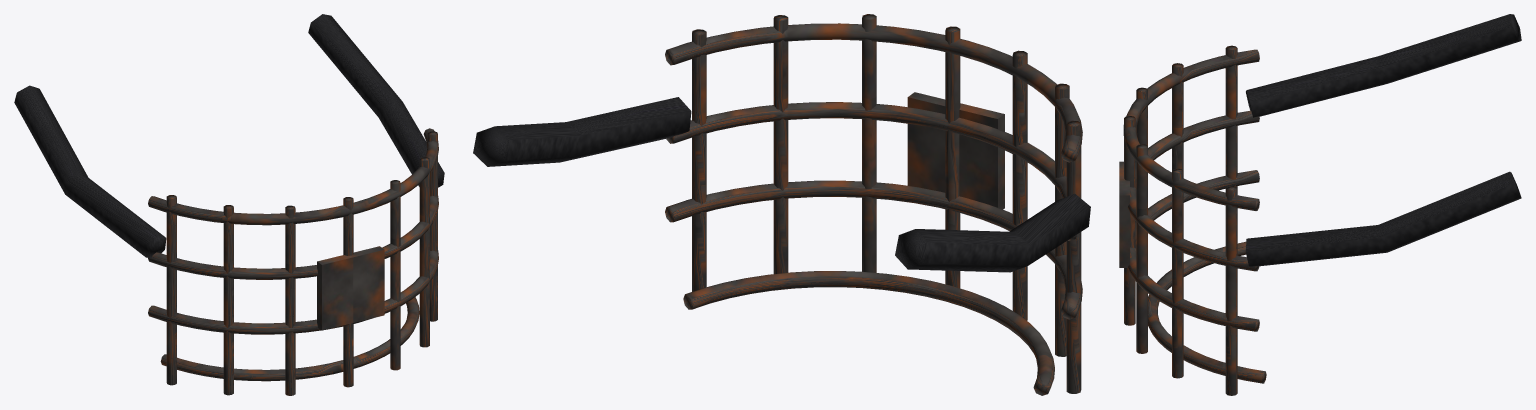
File: 鉄の口輪_muzzle.glb
3 views of the same model, side by side, from view 1: azimuth 30°, elevation 25°; view 2: azimuth 150°, elevation 25°; view 3: azimuth 270°, elevation 25° (orthographic). The views are drawn at different scales.
Parts seen in each view (by area): view 1: muzzle; view 2: muzzle; view 3: muzzle.
Part boxes in pixels (box(x1,y1,x2,y2)): muzzle: box(14, 14, 444, 395); muzzle: box(473, 14, 1090, 395); muzzle: box(1119, 14, 1521, 395).
Bounding box in the file's own units: 0.1604 × 0.0956 × 0.1512.
Materials: 2 (2 with a texture image).
